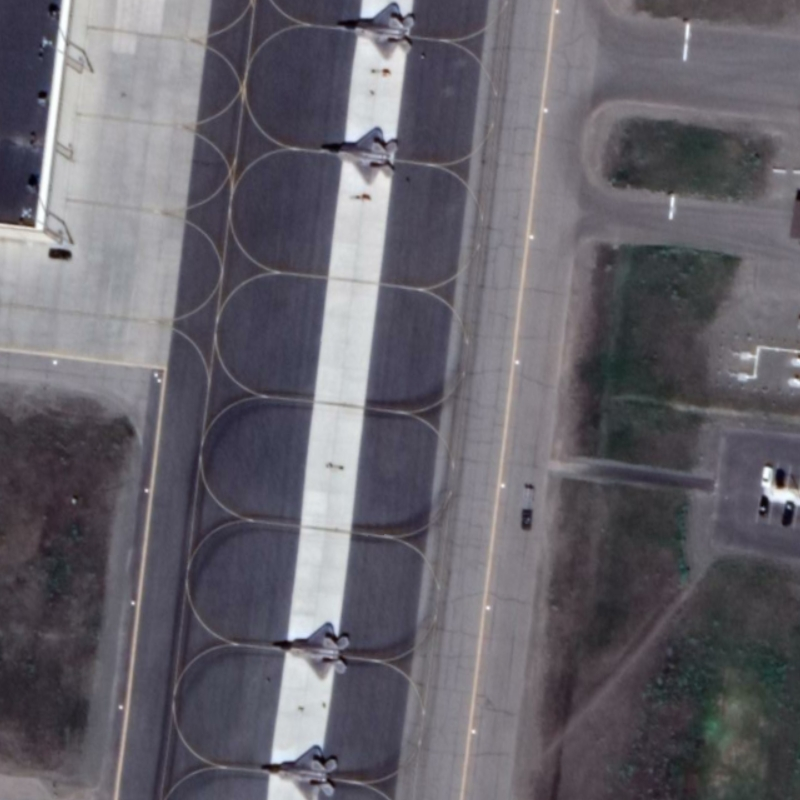A15: (310, 116, 407, 192), (261, 612, 354, 687), (322, 1, 420, 62), (253, 739, 350, 800)
